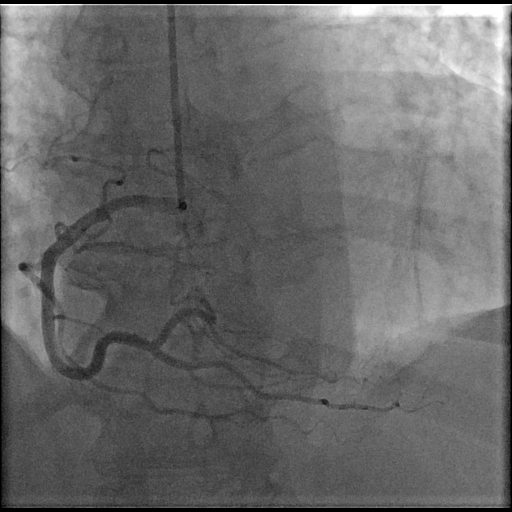RCA: (18, 194, 401, 412)
catherter: (167, 6, 187, 209)
